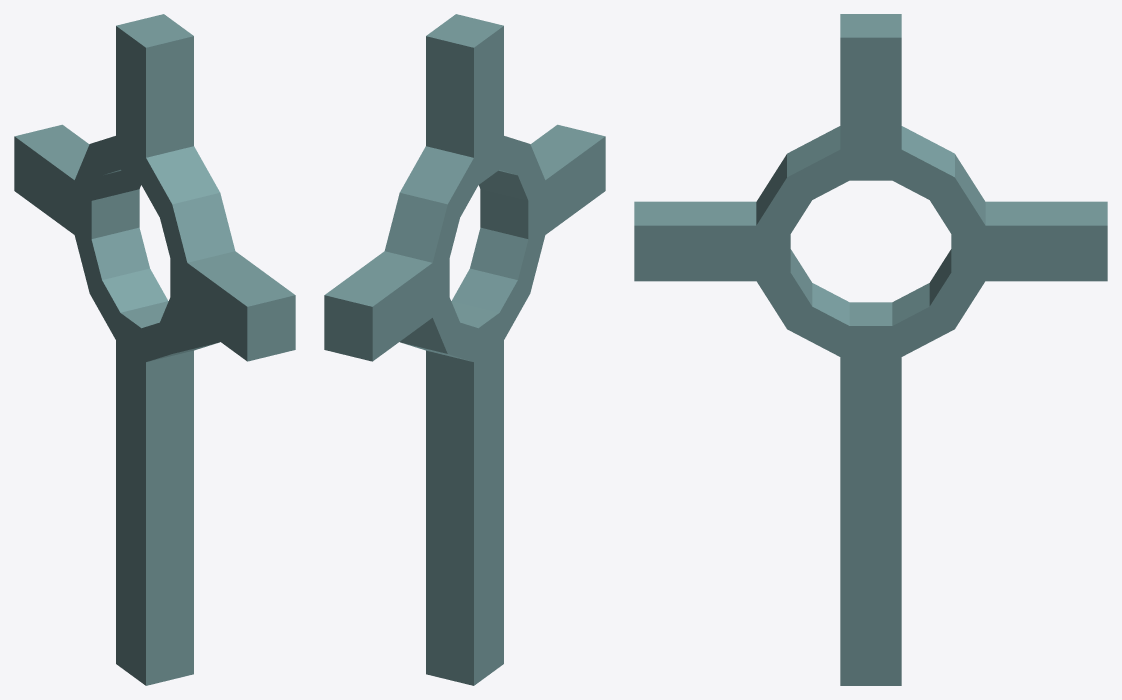
The model's file is Turret Game Environment Tombstone 003.fbx.
The picture shows the model from 3 angles, left to right: view 1: azimuth 30°, elevation 25°; view 2: azimuth 150°, elevation 25°; view 3: azimuth 270°, elevation 25°; orthographic projection.
Parts seen in each view (by area): view 1: Cylinder; view 2: Cylinder; view 3: Cylinder.
Part boxes in pixels (x1=…): Cylinder: x1=14, y1=14, x2=295, y2=685; Cylinder: x1=324, y1=14, x2=605, y2=685; Cylinder: x1=634, y1=14, x2=1107, y2=685.
Size of the model in its own units: 47.53 by 603 by 399.
